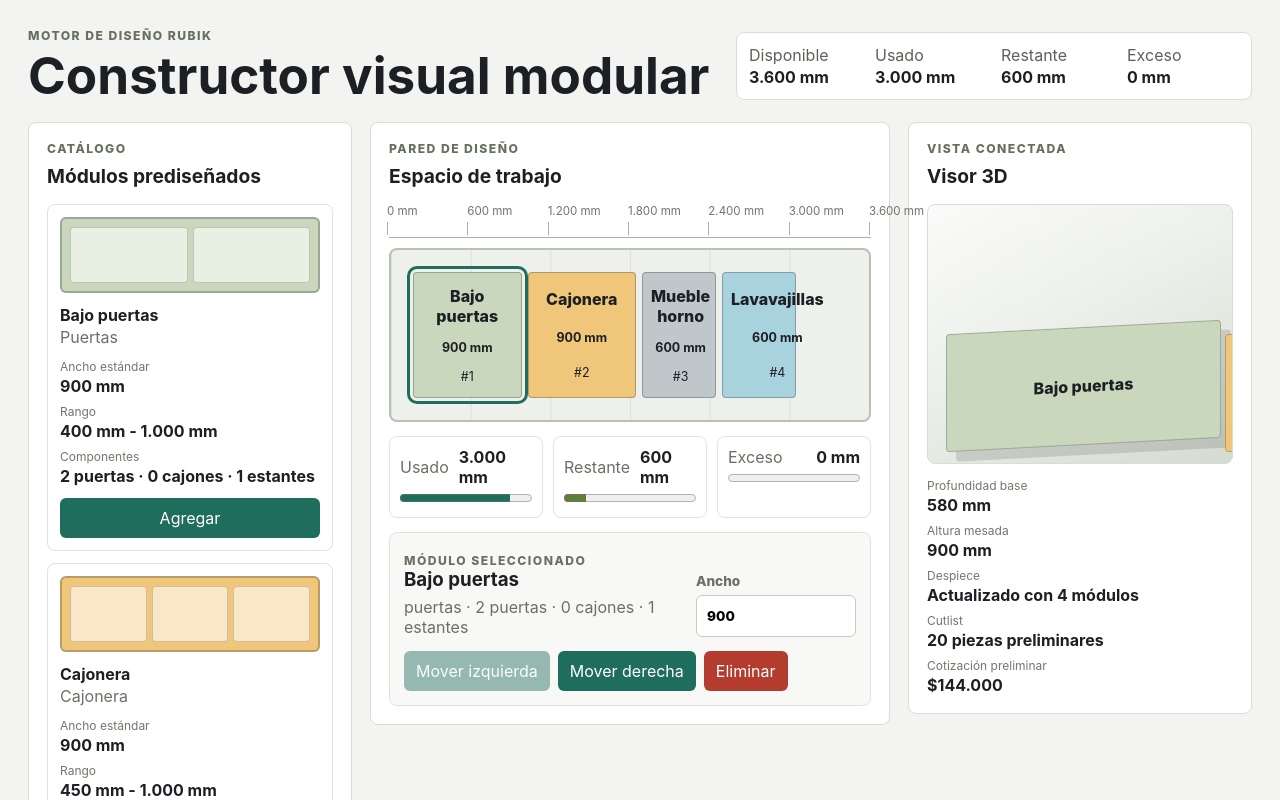
Test: Design engine visual modular builder › removes the selected module from the workspace and technical detail
The image size is (1280, 800).
Click the button with aria-label "Seleccionar Mueble horno 3". click: point(679, 335)
box: [642,272,716,398]
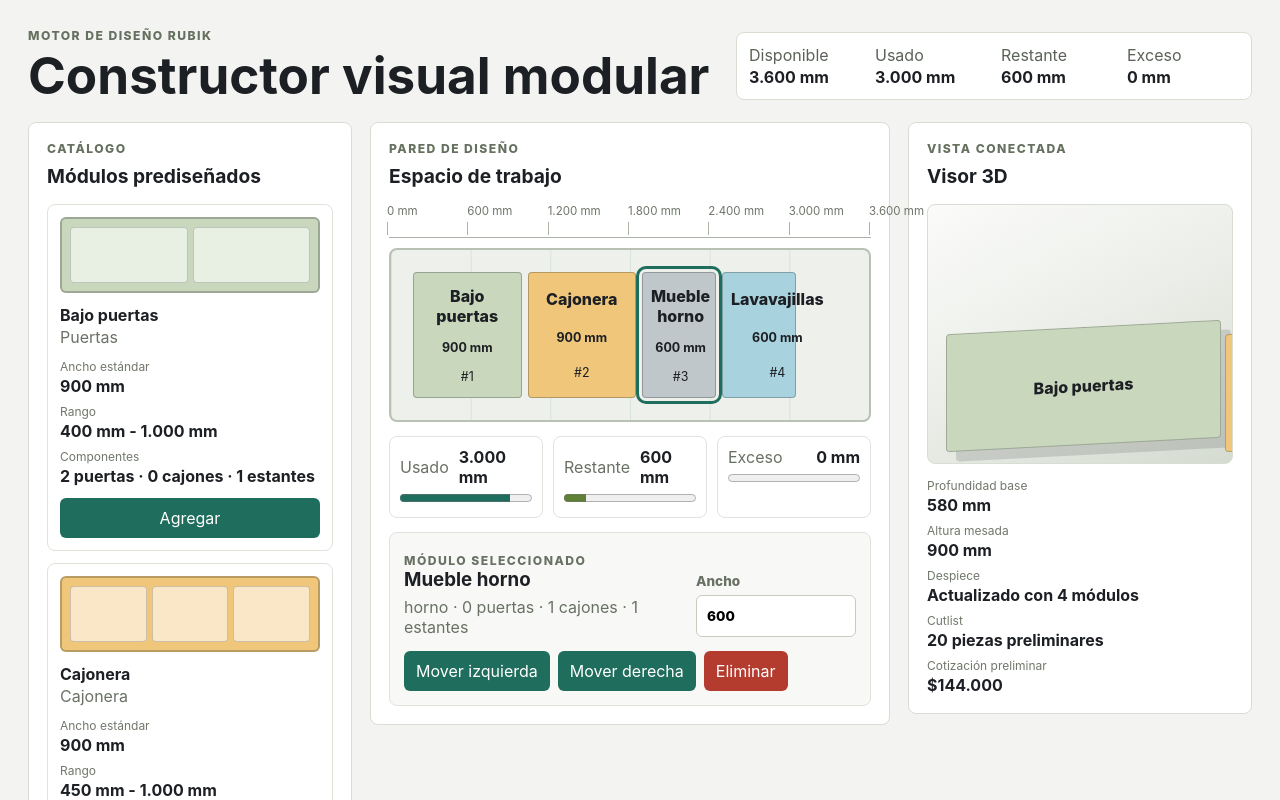
Click the button "Eliminar". click: point(746, 671)
box: [704,651,788,691]
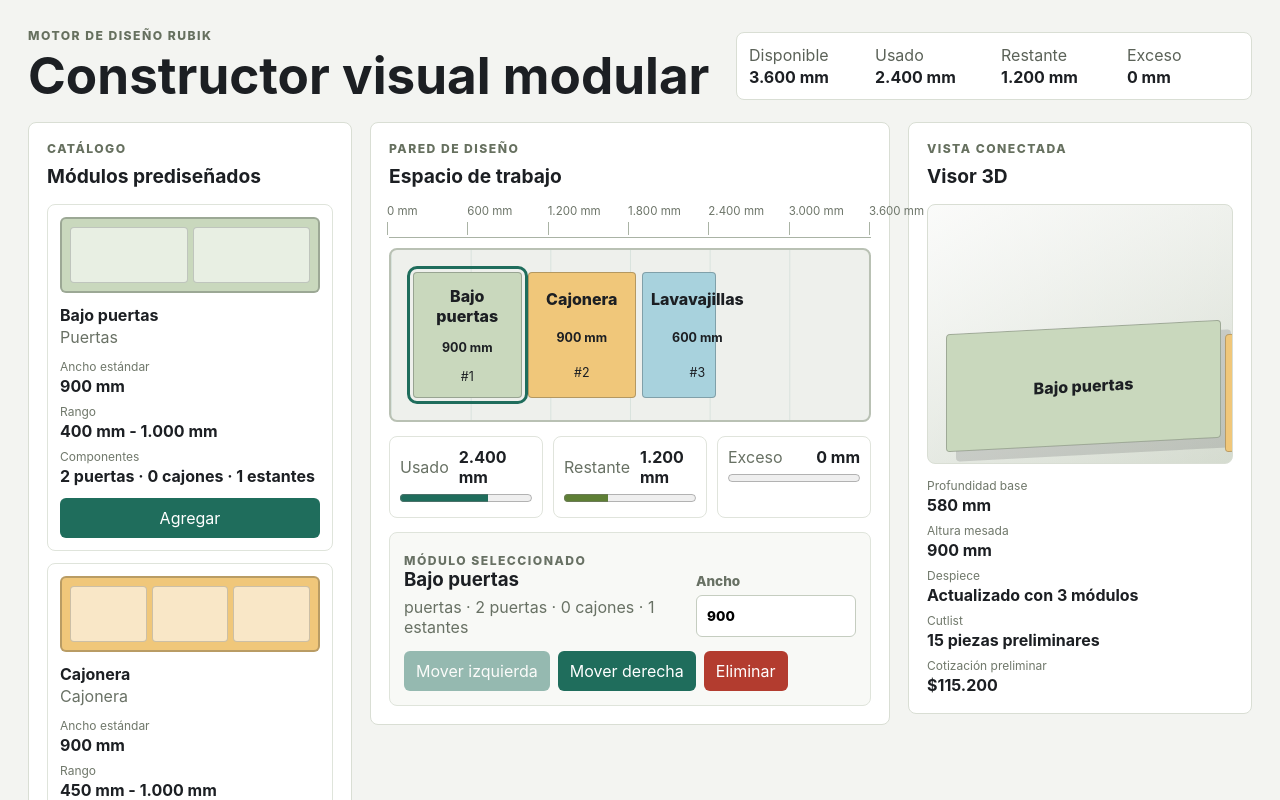
Expected: the cell "Mueble horno" is not shown
Expected: the text "2.400 mm" below "Disponible" is shown, [875,67,956,87]
